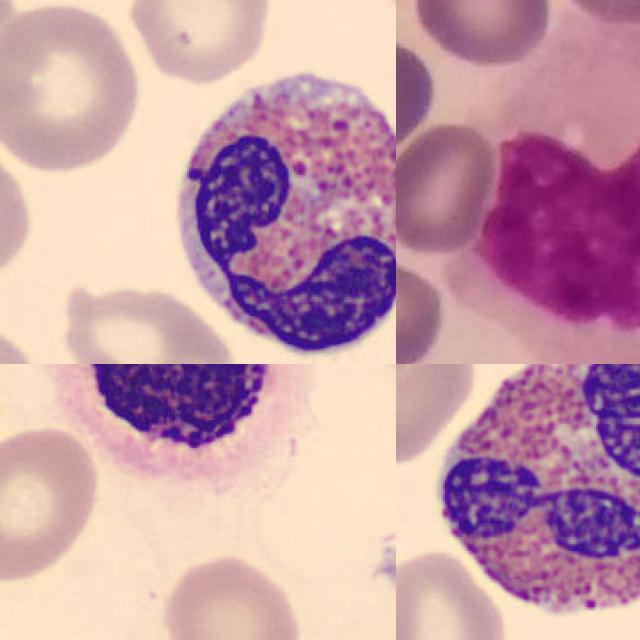Basophil: (0, 364, 313, 497)
Eosinophil: (158, 49, 396, 364), (423, 364, 640, 640)
Monocyte: (477, 37, 640, 364)
RBC: (0, 0, 148, 176), (0, 423, 102, 583), (52, 277, 238, 364), (153, 548, 308, 640), (121, 0, 274, 88), (396, 547, 511, 640), (396, 364, 480, 469), (0, 307, 52, 364)
